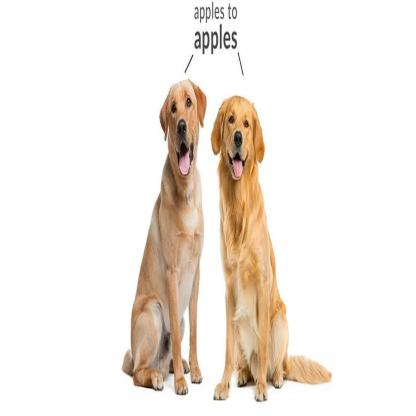Labarador Retriever: (215, 89, 333, 396), (122, 71, 208, 393)
